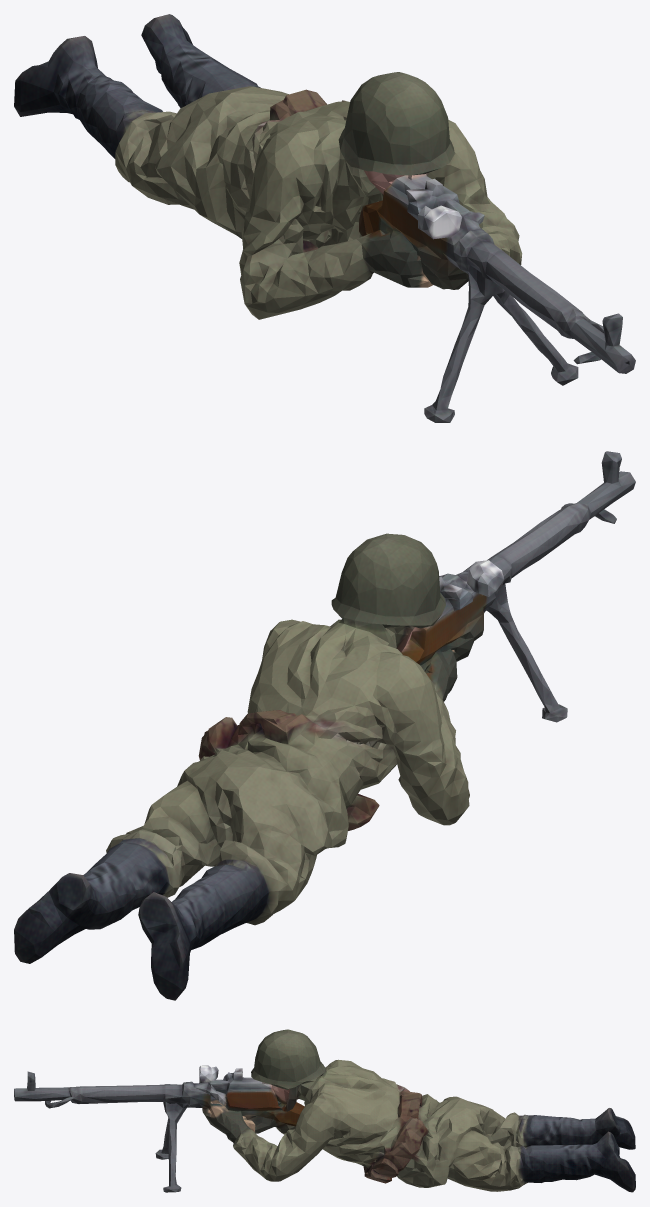
Rendered from ally_su_ptrd.obj.
The picture shows the model from 3 angles, top to bottom: view 1: azimuth 30°, elevation 25°; view 2: azimuth 150°, elevation 25°; view 3: azimuth 270°, elevation 25°; orthographic projection. The views are drawn at different scales.
Visible parts, largest first — view 1: ally_su_ptrd; view 2: ally_su_ptrd; view 3: ally_su_ptrd.
Part boxes in pixels (bbox=[...]): ally_su_ptrd: bbox=[14, 14, 635, 422]; ally_su_ptrd: bbox=[14, 451, 635, 1000]; ally_su_ptrd: bbox=[14, 1029, 635, 1192].
Size of the model in its own units: 0.73 by 0.75 by 2.96.
Materials: 1 (1 with a texture image).
